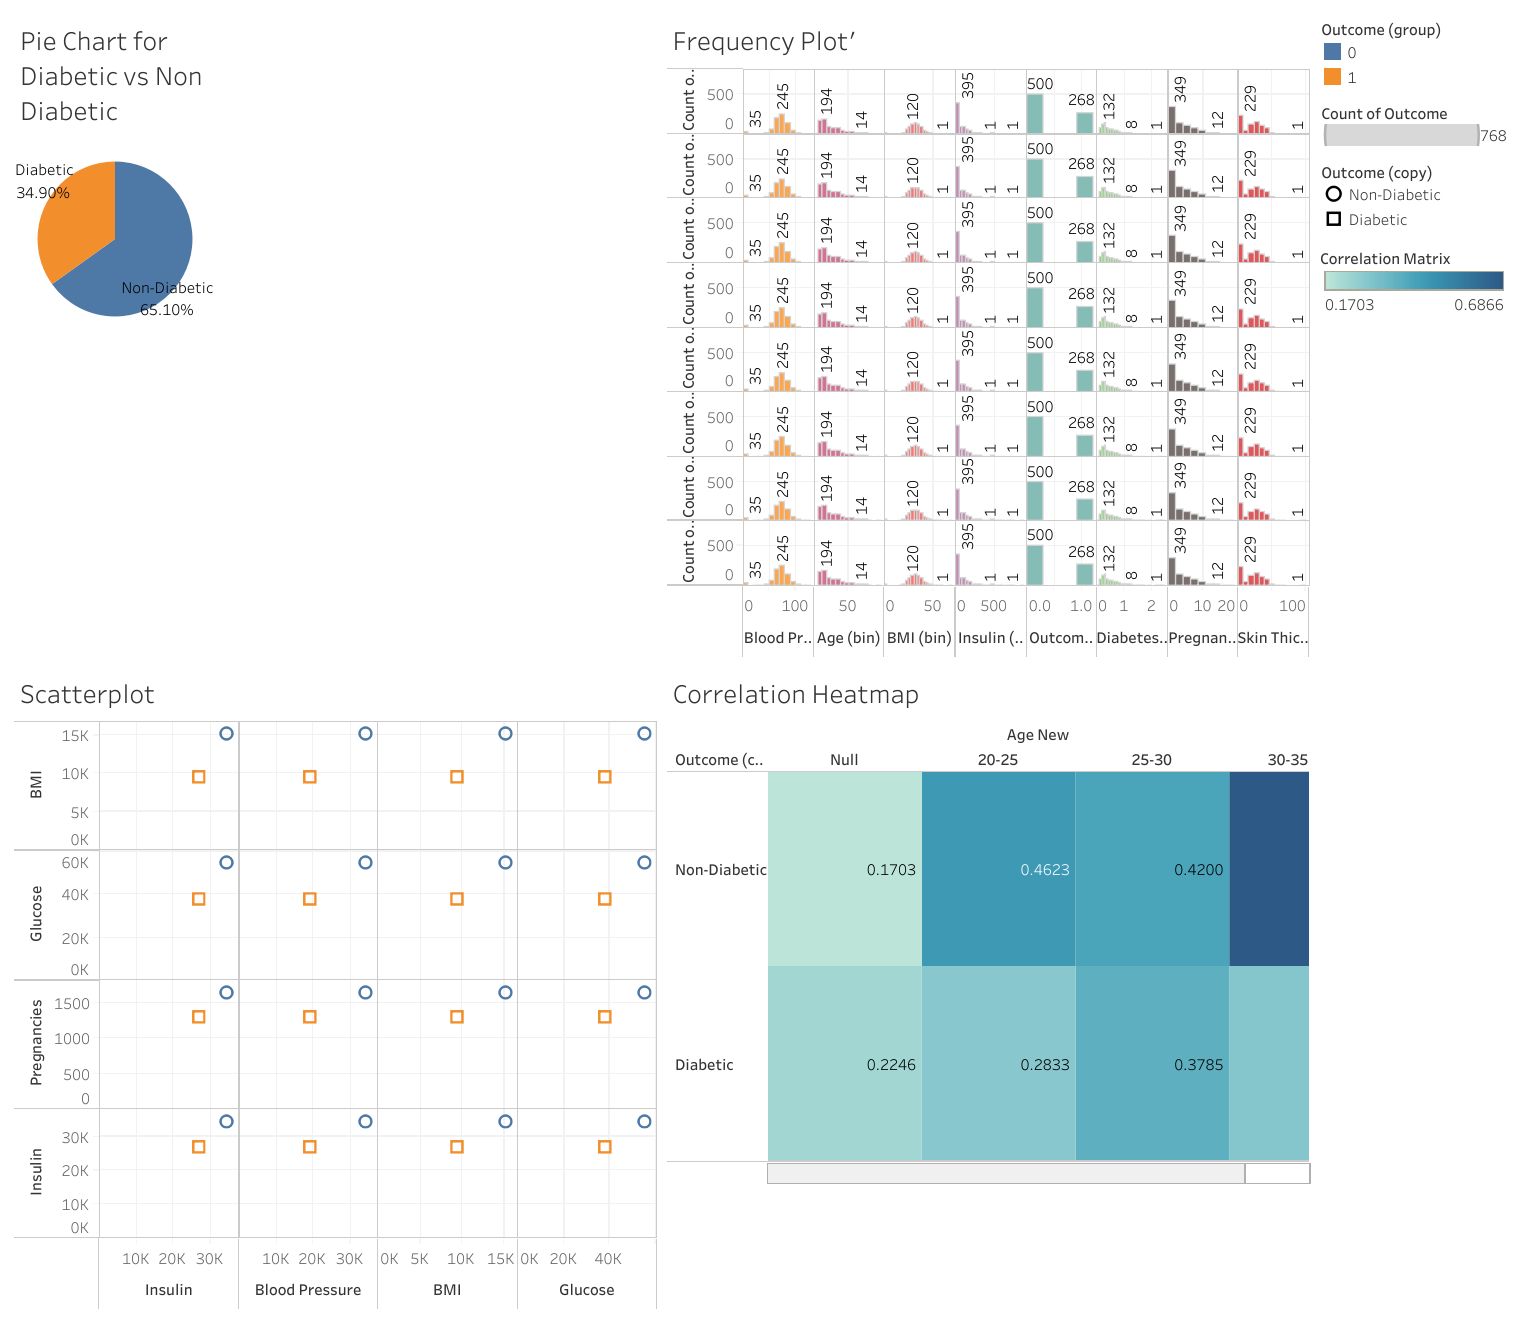

What the dashboard file says about the page in this screenshot:
{"tool":"tableau","page":{"name":"Dashboard 1","canvas":[1220,1060],"ordinal":0},"visuals":[{"type":"worksheet","title":"Pie Chart","mark":"Pie","box":[8,8,521.9,522]},{"type":"worksheet","title":"Frequency Plot'","mark":"Automatic","rows":["BloodPressure","Age","BMI","Insulin","Outcome","DiabetesPedigreeFunction","Pregnancies","SkinThickness"],"cols":["Blood Pressure (bin)","Age (bin)","BMI (bin)","Insulin (bin)","Outcome (bin)","Diabetes Pedigree Function (bin)","Pregnancies (bin)","Skin Thickness (bin)"],"box":[529.9,8,522.1,522]},{"type":"legend","title":"Pie Chart","param":"[federated.1urqh9f0ajut0d14db6j90qw075q].[Outcome (group)]","box":[1052,8,160,72]},{"type":"legend","title":"Pie Chart","param":"[federated.1urqh9f0ajut0d14db6j90qw075q].[cnt:Outcome:qk]","box":[1052,80,160,51]},{"type":"legend","title":"Scatterplot","param":"[federated.1urqh9f0ajut0d14db6j90qw075q].[none:Outcome (copy)_50384068714110978:","box":[1052,131,160,72]},{"type":"legend","title":"Correlation Heatmap","param":"[federated.1urqh9f0ajut0d14db6j90qw075q].[usr:Calculation_1274518743537442816:qk","box":[1052,203,160,73]},{"type":"worksheet","title":"Scatterplot","mark":"Automatic","rows":["BMI","Glucose","Pregnancies","Insulin"],"cols":["Insulin","BloodPressure","BMI","Glucose"],"box":[8,530,521.9,522]},{"type":"worksheet","title":"Correlation Heatmap","mark":"Square","rows":["Outcome (copy)_50384068714110978"],"cols":["Calculation_1418070981654151168"],"box":[529.9,530,522.1,522]}]}

Visuals, with their boxes in screenshot pixels (x1, y1, x2, y2), scaled from the page's 1220x1060 canvas onto the 1524x1324 screenshot:
"Pie Chart" worksheet (Pie marks): locate(10, 10, 662, 662)
"Frequency Plot'" worksheet: locate(662, 10, 1314, 662)
"Pie Chart" legend: locate(1314, 10, 1514, 100)
"Pie Chart" legend: locate(1314, 100, 1514, 164)
"Scatterplot" legend: locate(1314, 164, 1514, 254)
"Correlation Heatmap" legend: locate(1314, 254, 1514, 345)
"Scatterplot" worksheet: locate(10, 662, 662, 1314)
"Correlation Heatmap" worksheet (Square marks): locate(662, 662, 1314, 1314)
